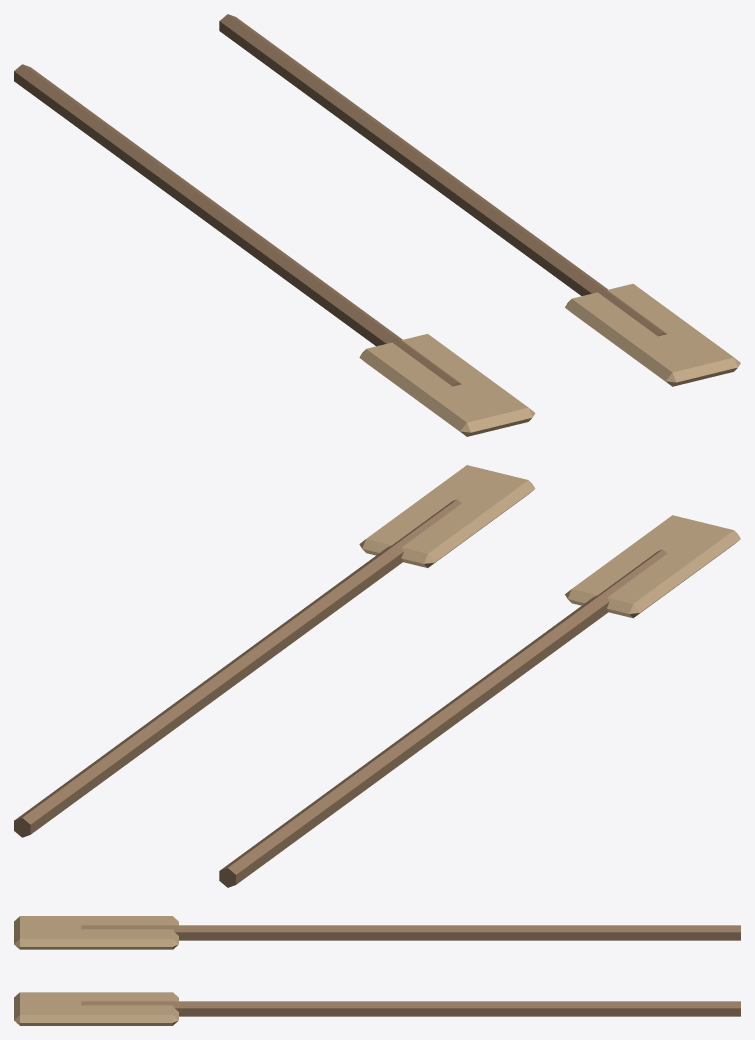
The model's file is oars.glb.
3 views of the same model, one above another, from view 1: azimuth 30°, elevation 25°; view 2: azimuth 150°, elevation 25°; view 3: azimuth 270°, elevation 25° (orthographic). The views are drawn at different scales.
Visible parts, largest first — view 1: Shaft.001, Shaft, Blade, Blade.001; view 2: Shaft, Shaft.001, Blade.001, Blade; view 3: Shaft, Shaft.001, Blade, Blade.001.
Part boxes in pixels (x1,y1,x2,y2): Shaft.001: [219, 14, 666, 336]; Shaft: [14, 64, 461, 386]; Blade: [359, 334, 535, 436]; Blade.001: [565, 283, 740, 386]; Shaft: [219, 549, 667, 887]; Shaft.001: [14, 499, 461, 837]; Blade.001: [359, 465, 535, 567]; Blade: [565, 515, 740, 618]; Shaft: [81, 925, 740, 940]; Shaft.001: [81, 1001, 740, 1016]; Blade: [14, 916, 178, 949]; Blade.001: [14, 992, 178, 1025].
Bounding box in the file's own units: 0.82 × 0.056 × 2.42.
